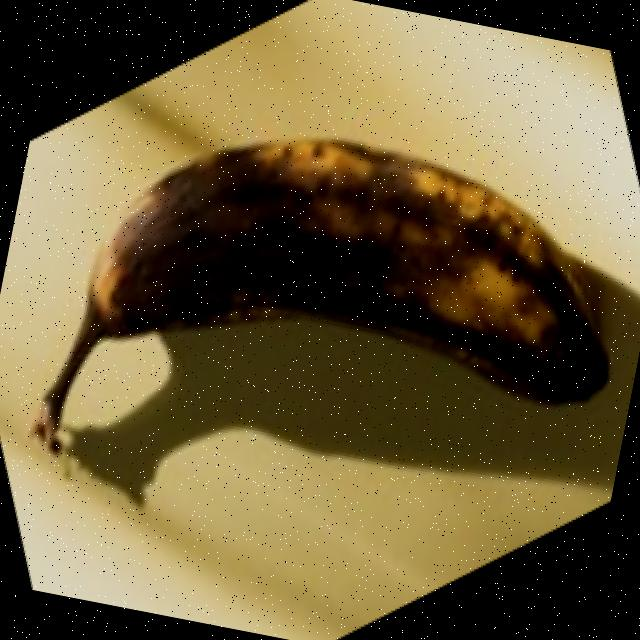overripe: (51, 83, 640, 502)
